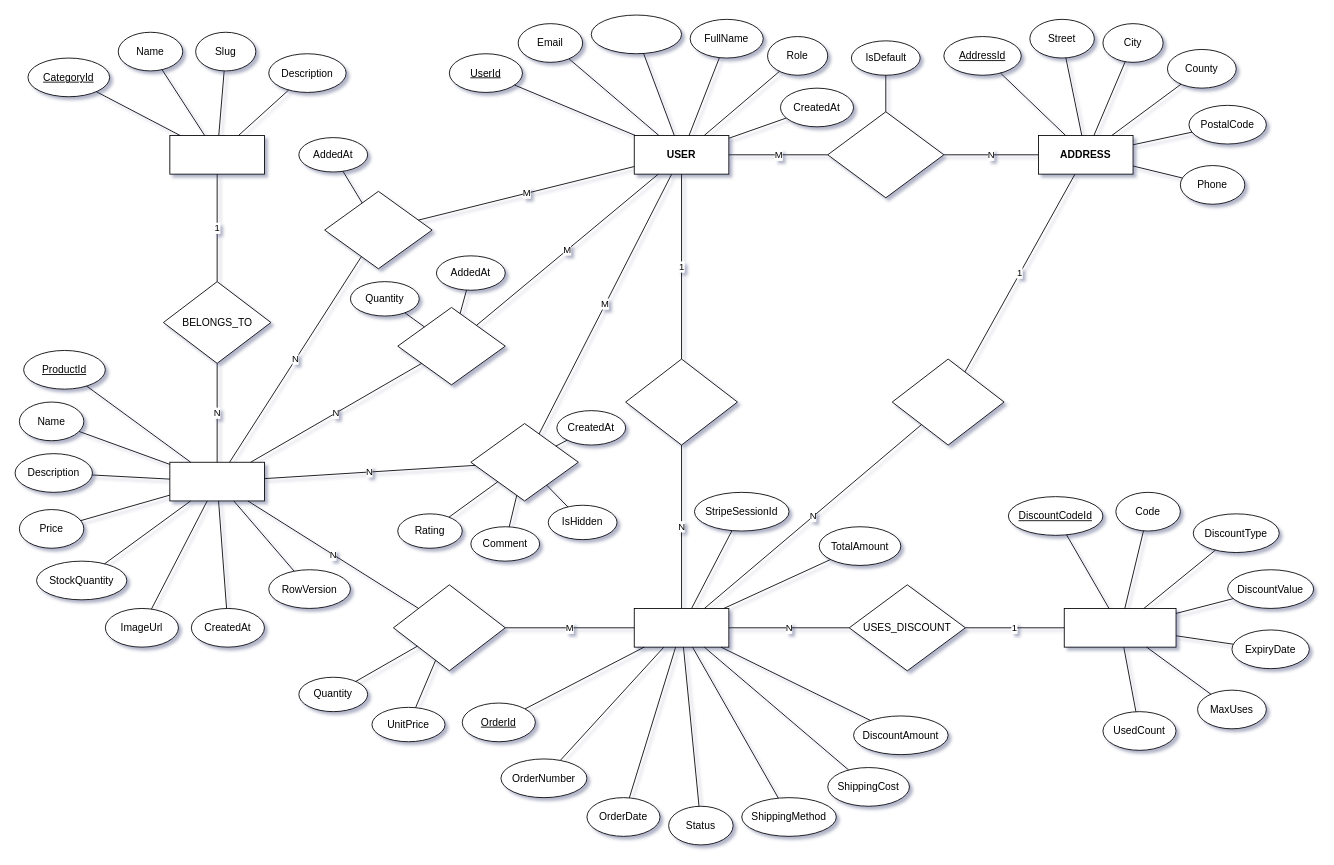
Image size: 1334x865. Some labels were removed from this diagram. Each missing label, with the box of its shape:
CATEGORY: (169, 135, 264, 174)
CONTAINS: (393, 584, 505, 671)
DISCOUNT_CODE: (1063, 608, 1176, 647)
HAS_ADDRESS: (827, 111, 944, 198)
IN_CART: (397, 307, 505, 385)
IN_WISHLIST: (324, 190, 432, 269)
ORDER: (633, 608, 729, 647)
PasswordHash: (590, 14, 682, 54)
PLACES: (625, 358, 737, 445)
PRODUCT: (169, 461, 264, 501)
REVIEWS: (470, 423, 578, 501)
SHIPS_TO: (891, 358, 1004, 445)
